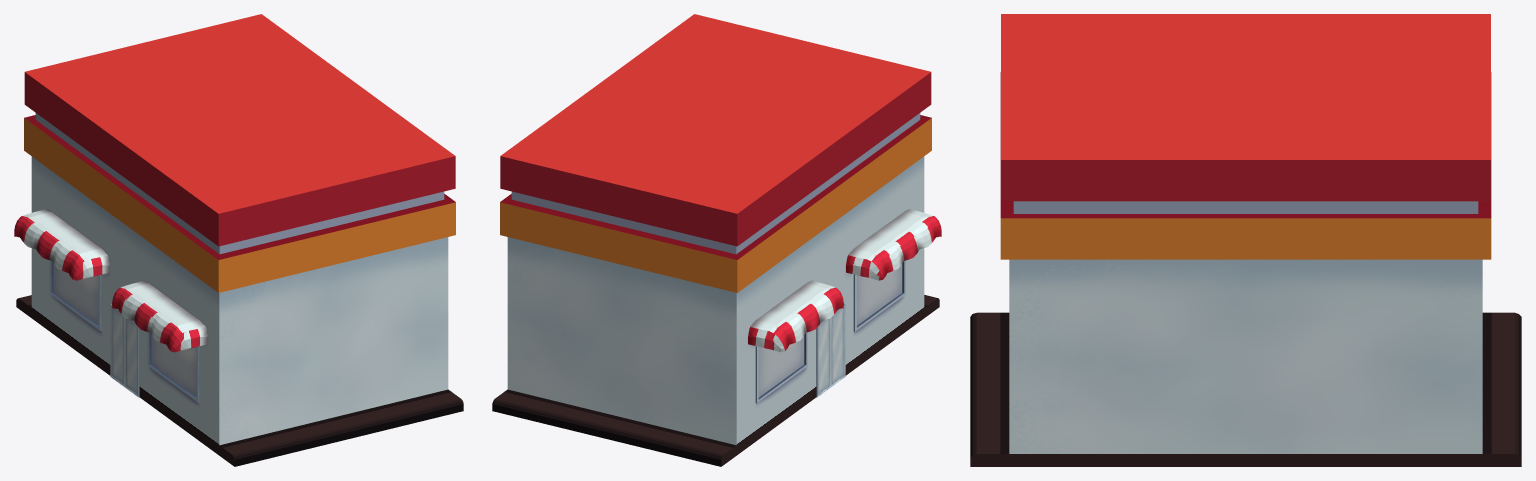
File: shop1.fbx
3 renders of one model, left to right at view 1: azimuth 30°, elevation 25°; view 2: azimuth 150°, elevation 25°; view 3: azimuth 270°, elevation 25°, orthographic. The views are drawn at different scales.
Parts seen in each view (by area): view 1: Box001; view 2: Box001; view 3: Box001.
Part boxes in pixels (x1,y1,x2,y2): Box001: [14, 14, 463, 466]; Box001: [492, 14, 941, 466]; Box001: [970, 14, 1521, 466].
Bounding box in the file's own units: 114 × 100 × 162.
Materials: 1 (1 with a texture image).
